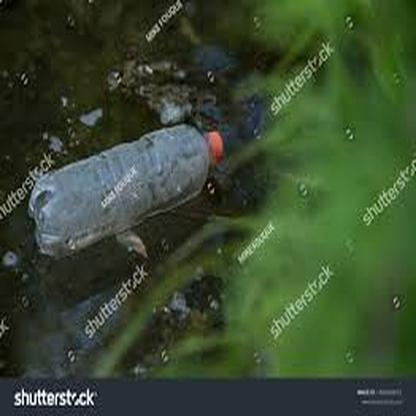plastic bottle: (26, 124, 225, 243)
